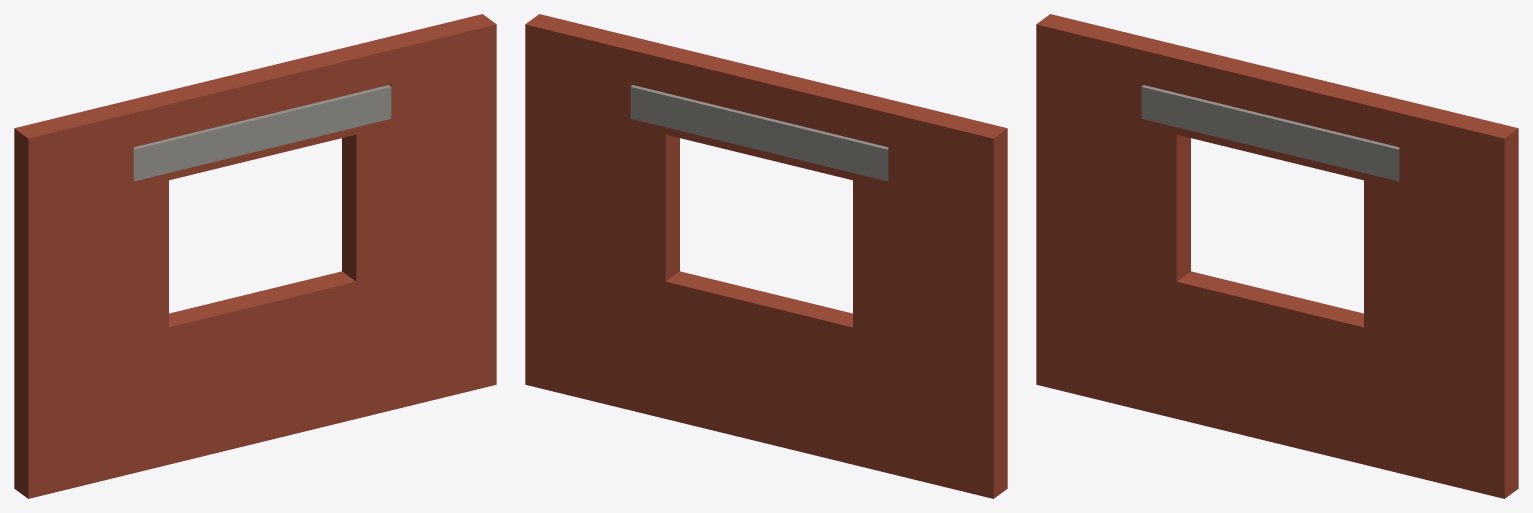
File: wall_brick_sample.far.glb
The picture shows the model from 3 angles, left to right: view 1: azimuth 30°, elevation 25°; view 2: azimuth 150°, elevation 25°; view 3: azimuth 330°, elevation 25°; orthographic projection.
Visible parts, largest first — view 1: wall_brick_sample; view 2: wall_brick_sample; view 3: wall_brick_sample.
Boxes of the visible parts, x1,y1,x2,y2 form: wall_brick_sample: [14, 14, 496, 498]; wall_brick_sample: [525, 14, 1007, 498]; wall_brick_sample: [1036, 14, 1518, 498].
Size of the model in its own units: 2 by 1.47 by 0.105.
